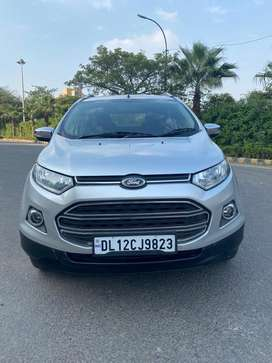DL12CJ9823: (94, 235, 175, 254)
